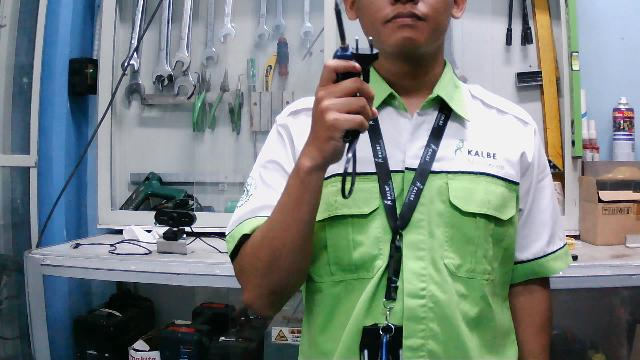solder_electrical: (315, 0, 380, 204)
